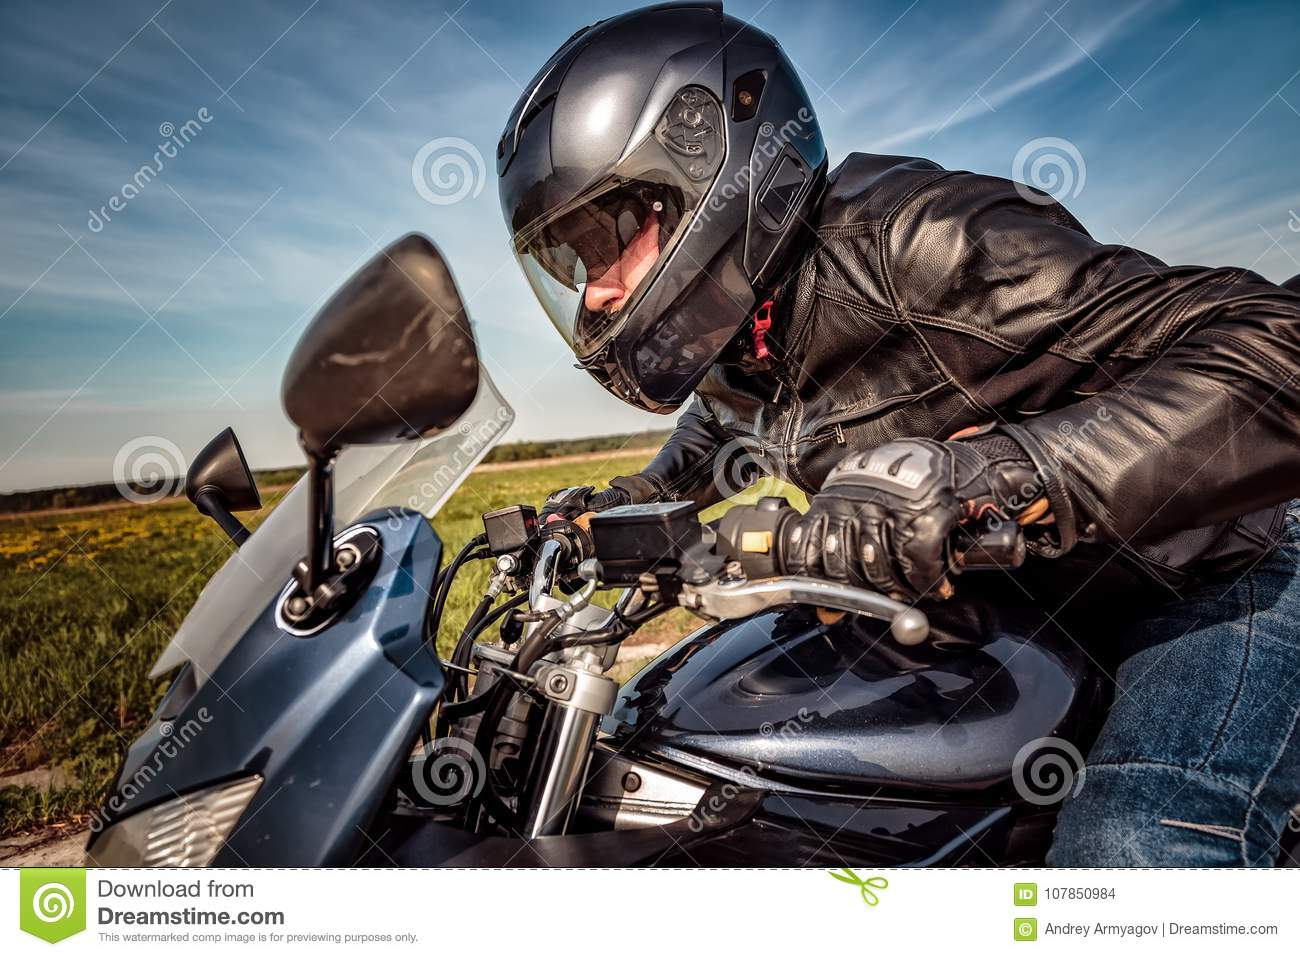helmet: (492, 13, 815, 389)
